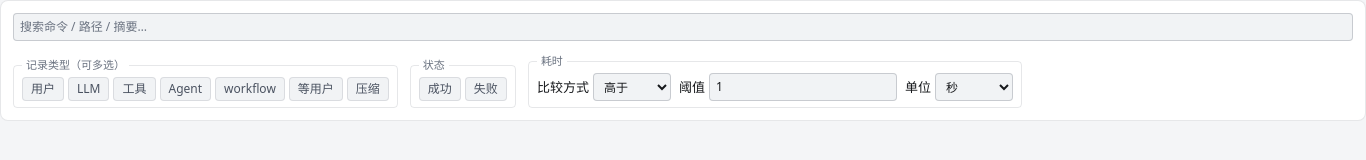
it: changes only duration display without changing stored milliseconds
The image size is (1366, 160).
Expected: the number field labelled "阈值" holds "1", x1=709 y1=73 x2=897 y2=101
Select "毫秒" in the dropdown named "耗时单位" at (974, 87), box x1=935 y1=73 x2=1013 y2=101
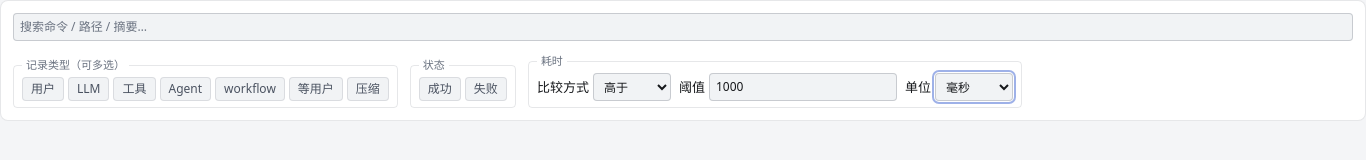
Now the number field labelled "阈值" holds "1000", box x1=709 y1=73 x2=897 y2=101
